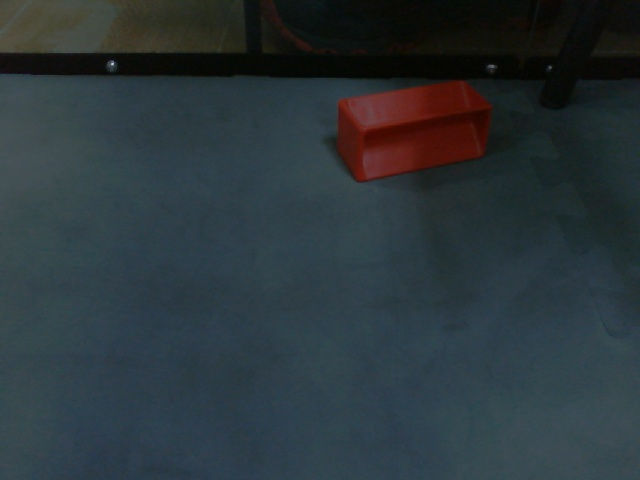RedSample: (335, 79, 493, 185)
